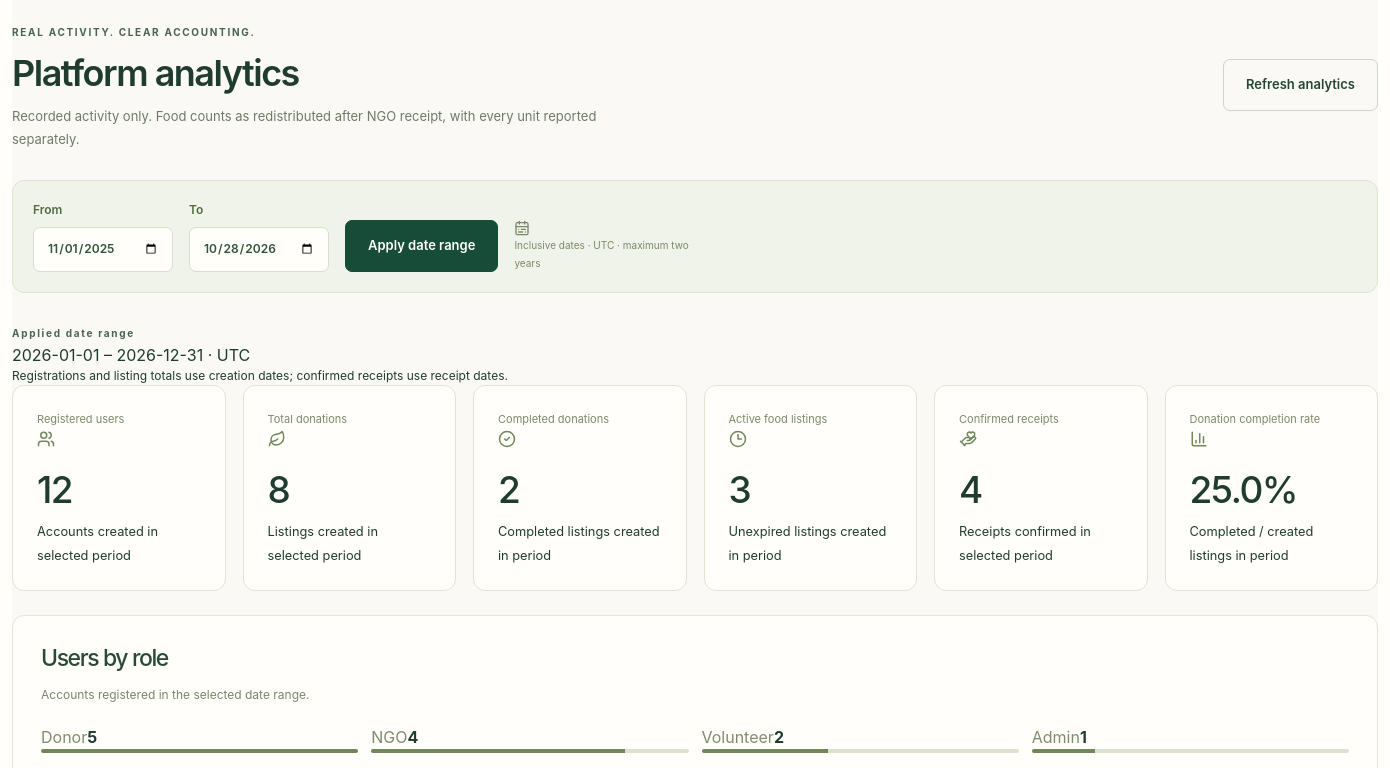
Phase 5 role analytics › rejects reversed dates with keyboard focus and no invalid request
The width and height of the screenshot is (1390, 768).
expect the text "Applied date range" is shown: met, box [12,326,135,341]
Type "2027-01-01" into the date field labelled "From" at [103, 249], box [33,227,173,272]
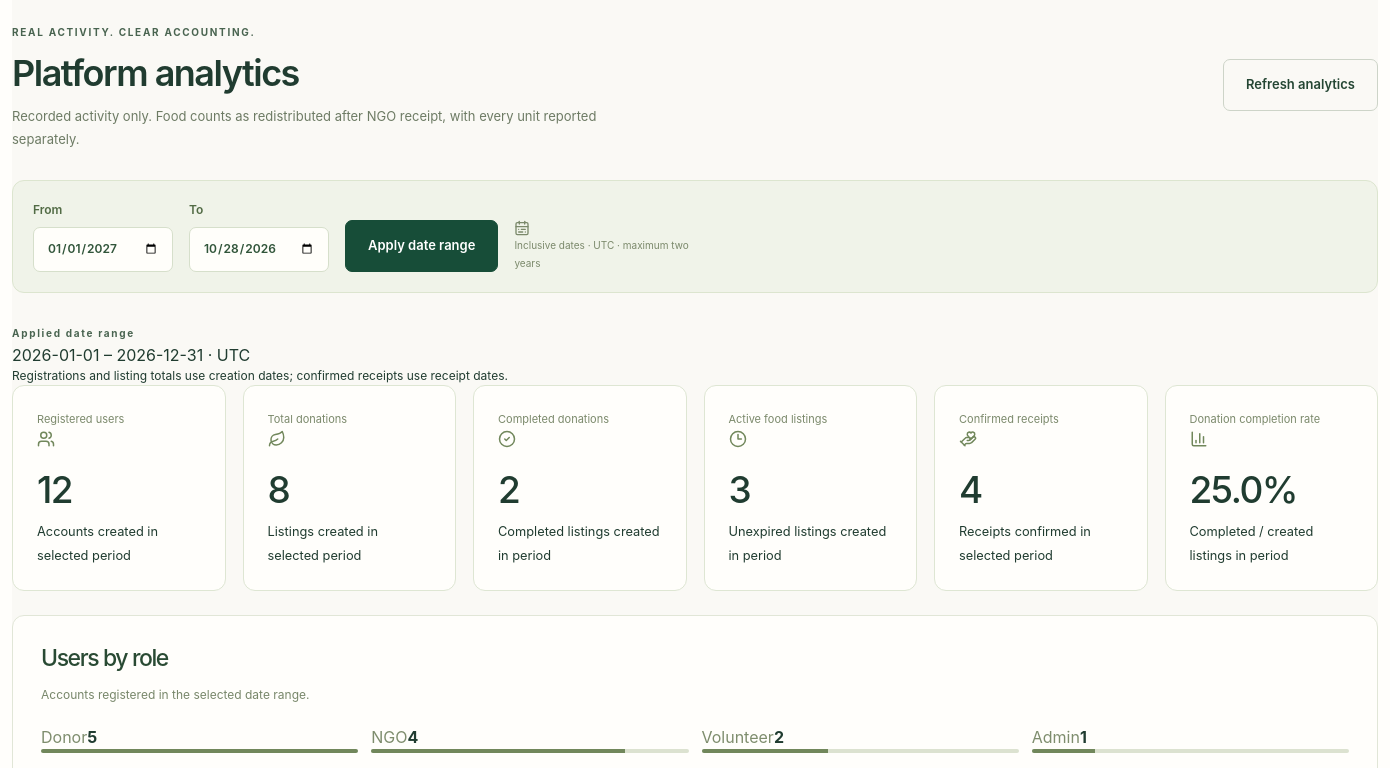
Type "2026-01-01" into the date field labelled "To" at [259, 249], box [189,227,329,272]
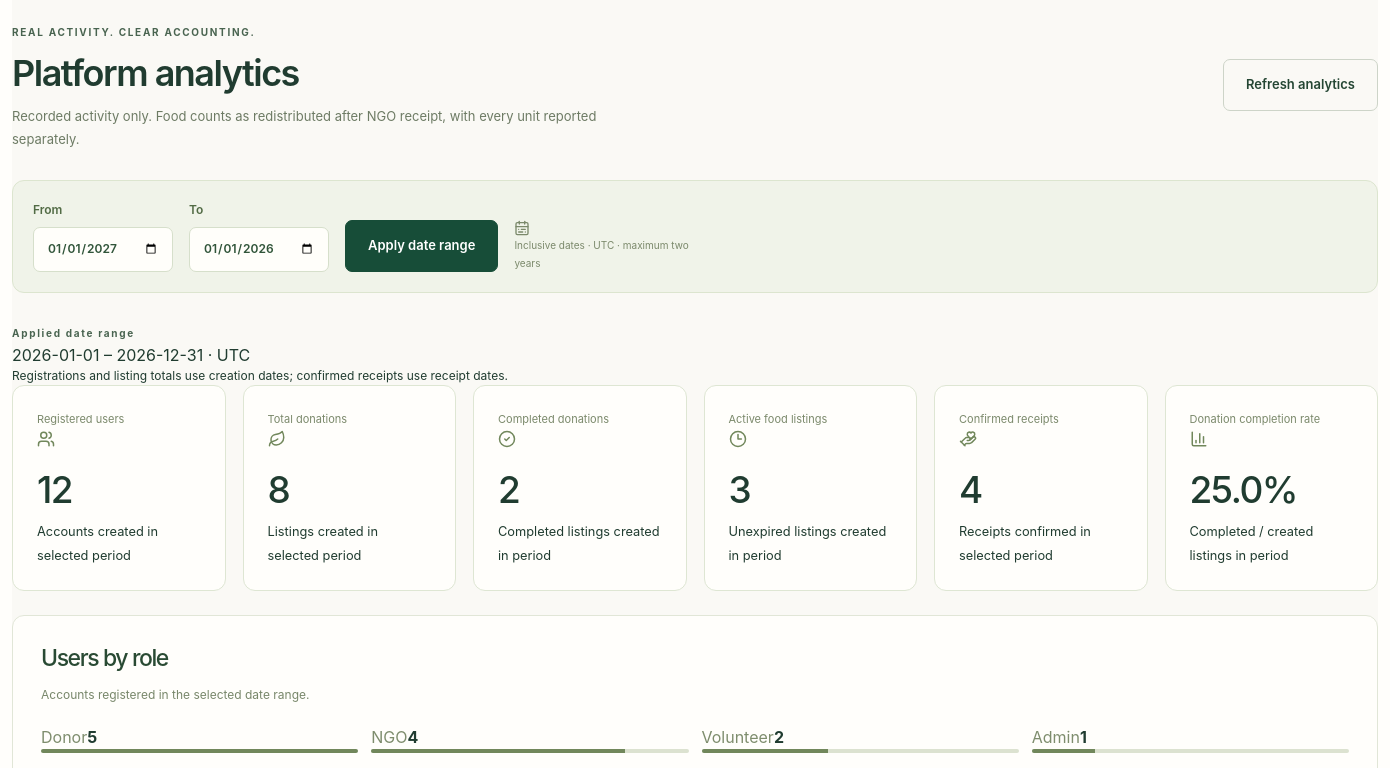
Submit the form named "Analytics date range", box [12,180,1378,293]
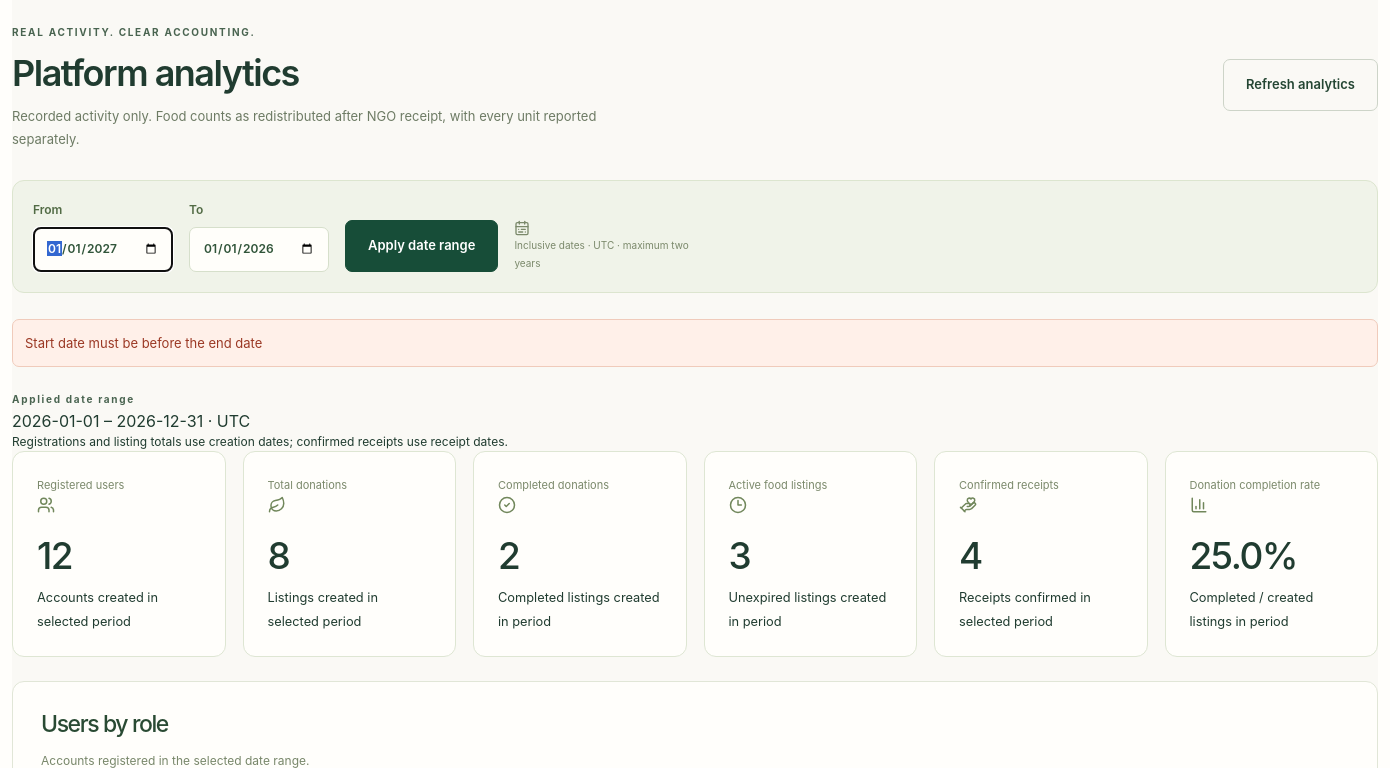
expect the message shows "Start date": met, box [25,335,262,351]
